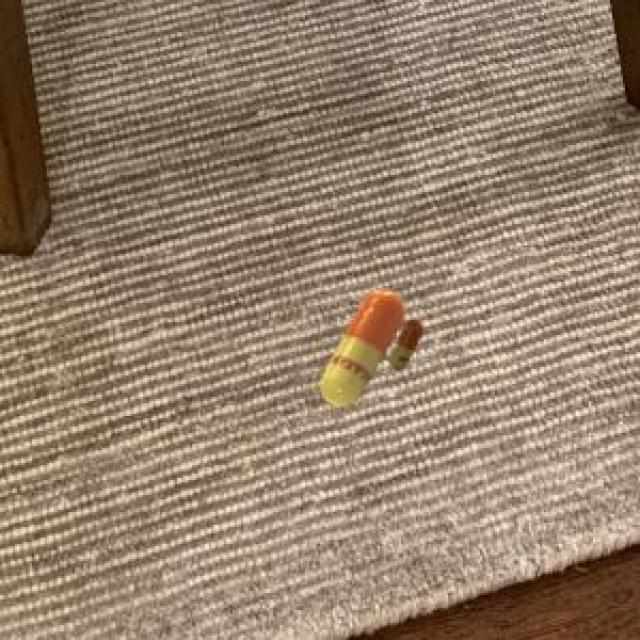Alaxan: (312, 274, 424, 412)
